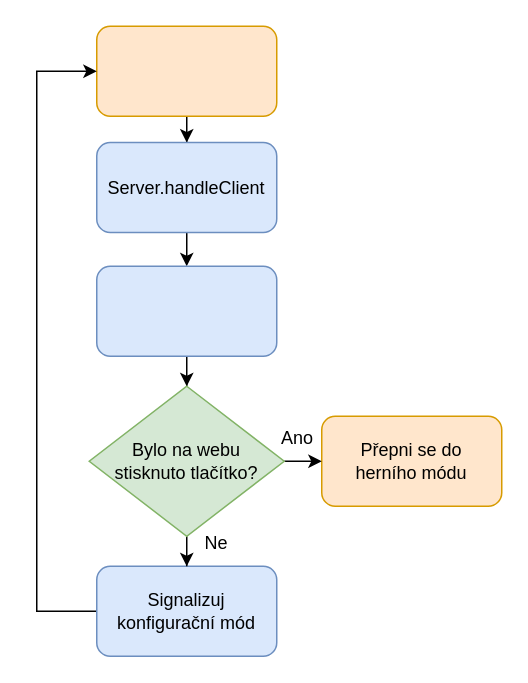
The diagram is 528 pixels wide and 683 high, and some of its shapes have lost their labels. The shapes that lost their labels are listed below. From the top down, each one's box as (x1, y1, x2, y2) in pixels, then its label:
(95, 25, 277, 116): Zapni server
(95, 265, 277, 356): Sdílej nastavení
